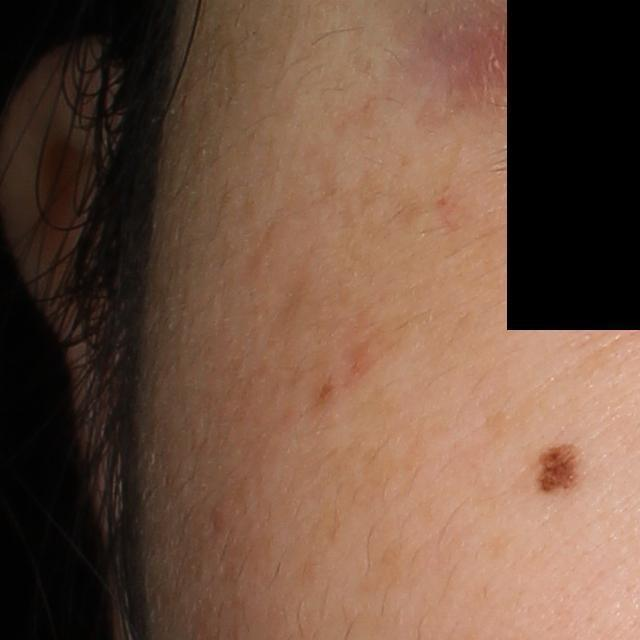nevus: (536, 442, 585, 495)
